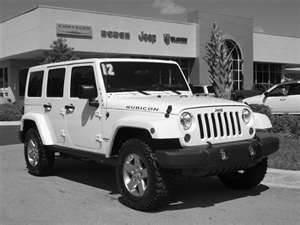car: (22, 57, 280, 214)
